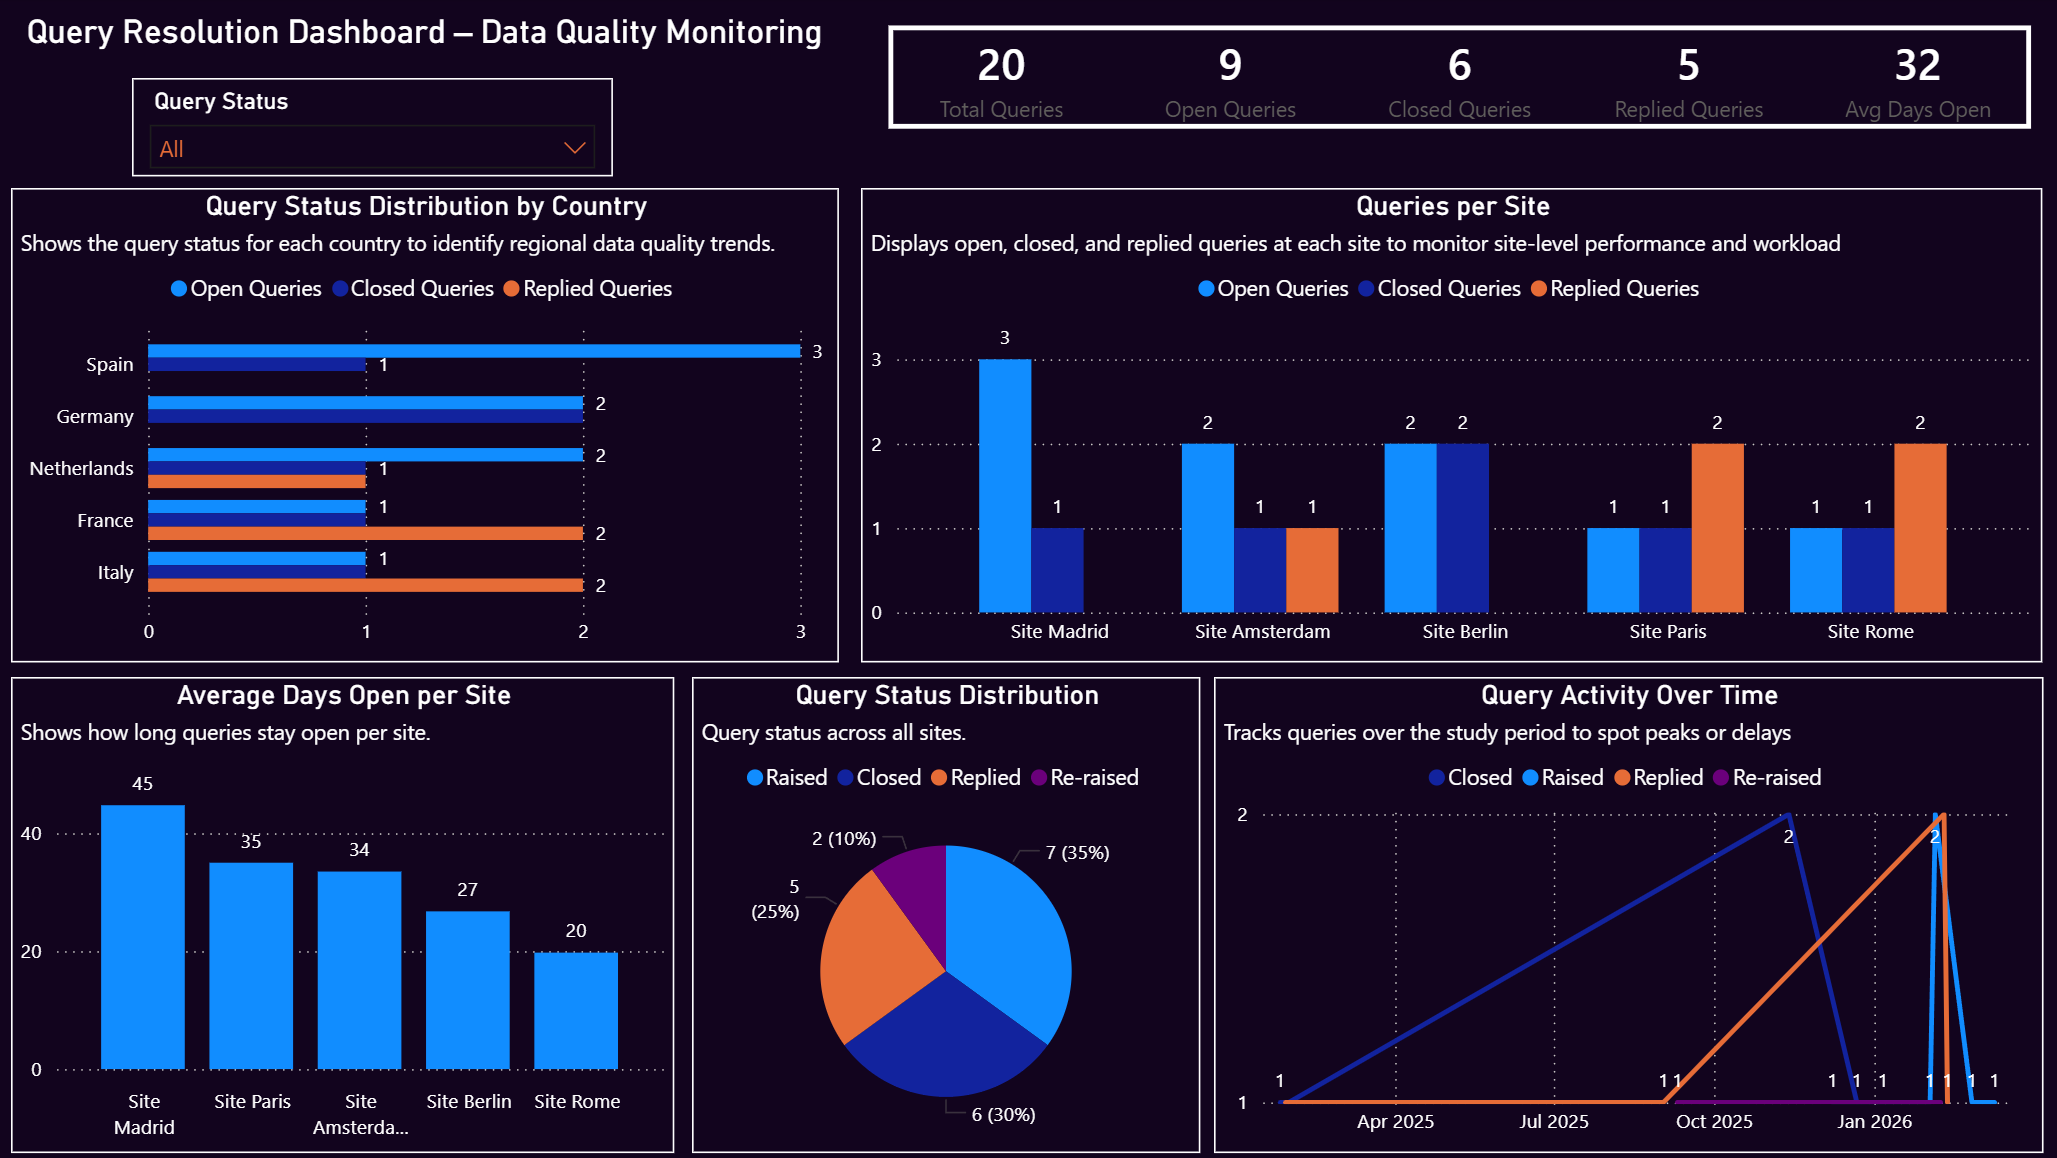

The page's visual inventory and layout, read from the dashboard file:
{"tool":"powerbi","page":{"name":"Query Dashboard","canvas":[1280,720],"ordinal":2},"visuals":[{"type":"textbox","title":"Query Resolution Dashboard – Data Quality Monitoring","box":[14.3,8.7,521.7,29.1],"z":0},{"type":"cardVisual","fields":{"Data":["clean_queries.Total Queries","clean_queries.Open Queries","clean_queries.Closed Queries","clean_queries.Replied Queries","clean_queries.Avg Days Open"]},"box":[536.2,0,743.8,98.7],"z":1000},{"type":"clusteredColumnChart","title":"Queries per Site","fields":{"Category":["clean_sites.site_name"],"Y":["clean_queries.Open Queries","clean_queries.Closed Queries","clean_queries.Replied Queries"]},"box":[536.2,117.4,743.8,294.5],"z":2000},{"type":"clusteredBarChart","title":"Query Status Distribution by Country","fields":{"Category":["clean_sites.country"],"Y":["clean_queries.Open Queries","clean_queries.Closed Queries","clean_queries.Replied Queries"]},"box":[9.3,117.7,513,294.3],"z":3000},{"type":"columnChart","title":"Average Days Open per Site","fields":{"Category":["clean_sites.site_name"],"Y":["clean_queries.Avg Days Open"]},"box":[9.5,420.7,411.2,299.1],"z":4000},{"type":"lineChart","title":"Query Activity Over Time","fields":{"Category":["clean_queries.querydate.Variation.Date Hierarchy.Year","clean_queries.querydate.Variation.Date Hierarchy.Quarter","clean_queries.querydate.Variation.Date Hierarchy.Month","clean_queries.querydate.Variation.Date Hierarchy.Day"],"Series":["clean_queries.querystatuslabel"],"Y":["clean_queries.Count of queries"]},"box":[754.7,420.7,525.3,299.1],"z":5000},{"type":"pieChart","title":"Query Status Distribution","fields":{"Category":["clean_queries.querystatuslabel"],"Y":["clean_queries.Count of queries"]},"box":[429.1,420.7,317.1,299.1],"z":6000},{"type":"slicer","fields":{"Values":["clean_queries.querystatuslabel"]},"box":[84.3,49.6,298,60.7],"z":6001}]}

Visuals, with their boxes in screenshot pixels (x1, y1, x2, y2), scaled from the page's 1280x720 canvas onto the 2057x1158 screenshot:
"Query Resolution Dashboard – Data Quality Monitoring" textbox: 23, 14, 861, 61
cardVisual - clean_queries.Total Queries x clean_queries.Open Queries: 862, 0, 2056, 159
"Queries per Site" clusteredColumnChart: 862, 189, 2056, 662
"Query Status Distribution by Country" clusteredBarChart: 15, 189, 839, 663
"Average Days Open per Site" columnChart: 15, 677, 676, 1157
"Query Activity Over Time" lineChart: 1213, 677, 2056, 1157
"Query Status Distribution" pieChart: 690, 677, 1199, 1157
slicer - clean_queries.querystatuslabel: 135, 80, 614, 177
